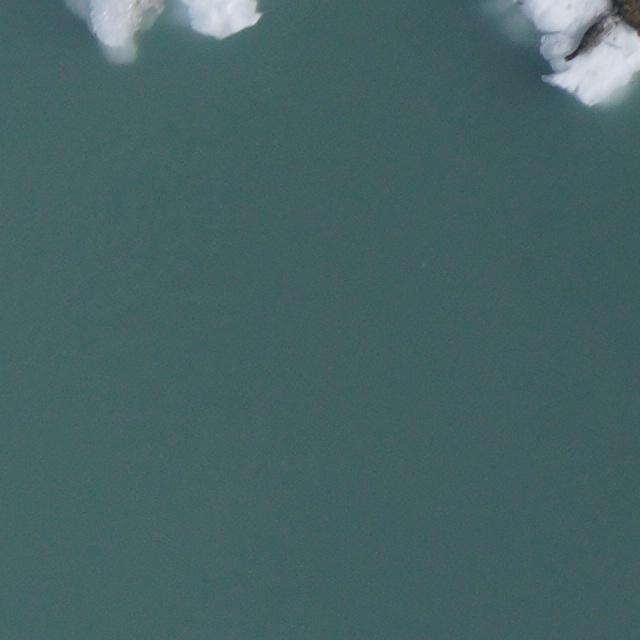seal: (560, 5, 625, 70), (612, 1, 639, 36)
